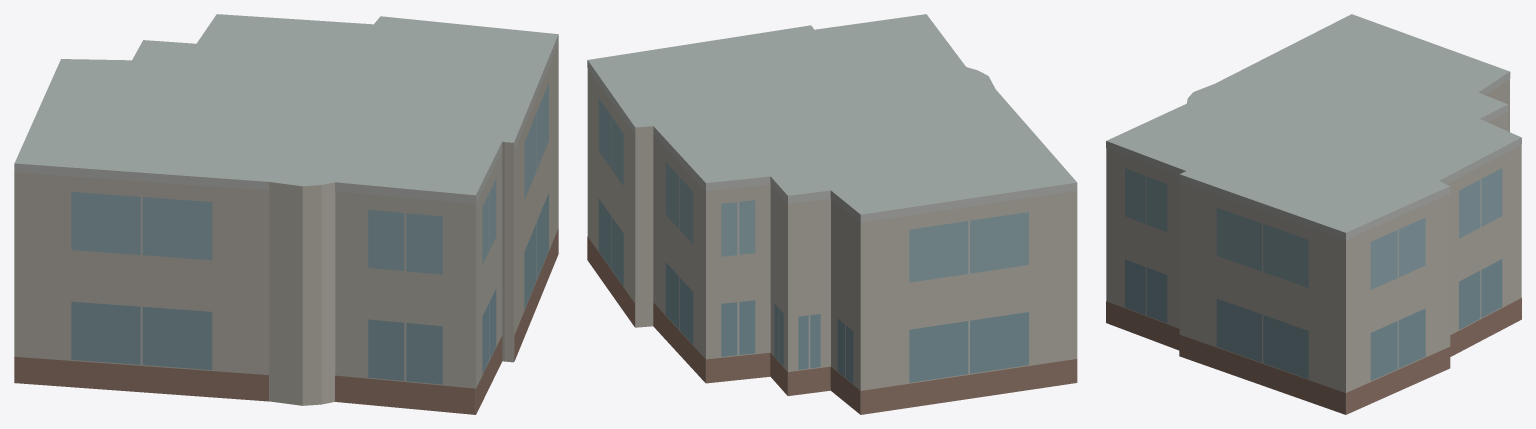
Rendered from survey-upis-32695592.glb.
3 renders of one model, left to right at view 1: azimuth 30°, elevation 25°; view 2: azimuth 150°, elevation 25°; view 3: azimuth 270°, elevation 25°, orthographic. The views are drawn at different scales.
Visible parts, largest first — view 1: survey-upis-32695592.tmp; view 2: survey-upis-32695592.tmp; view 3: survey-upis-32695592.tmp.
Part boxes in pixels (x1,y1,x2,y2): survey-upis-32695592.tmp: (14, 14, 558, 414); survey-upis-32695592.tmp: (587, 14, 1077, 414); survey-upis-32695592.tmp: (1106, 14, 1521, 414).
Bounding box in the file's own units: 15.73 × 6.1 × 12.63.
